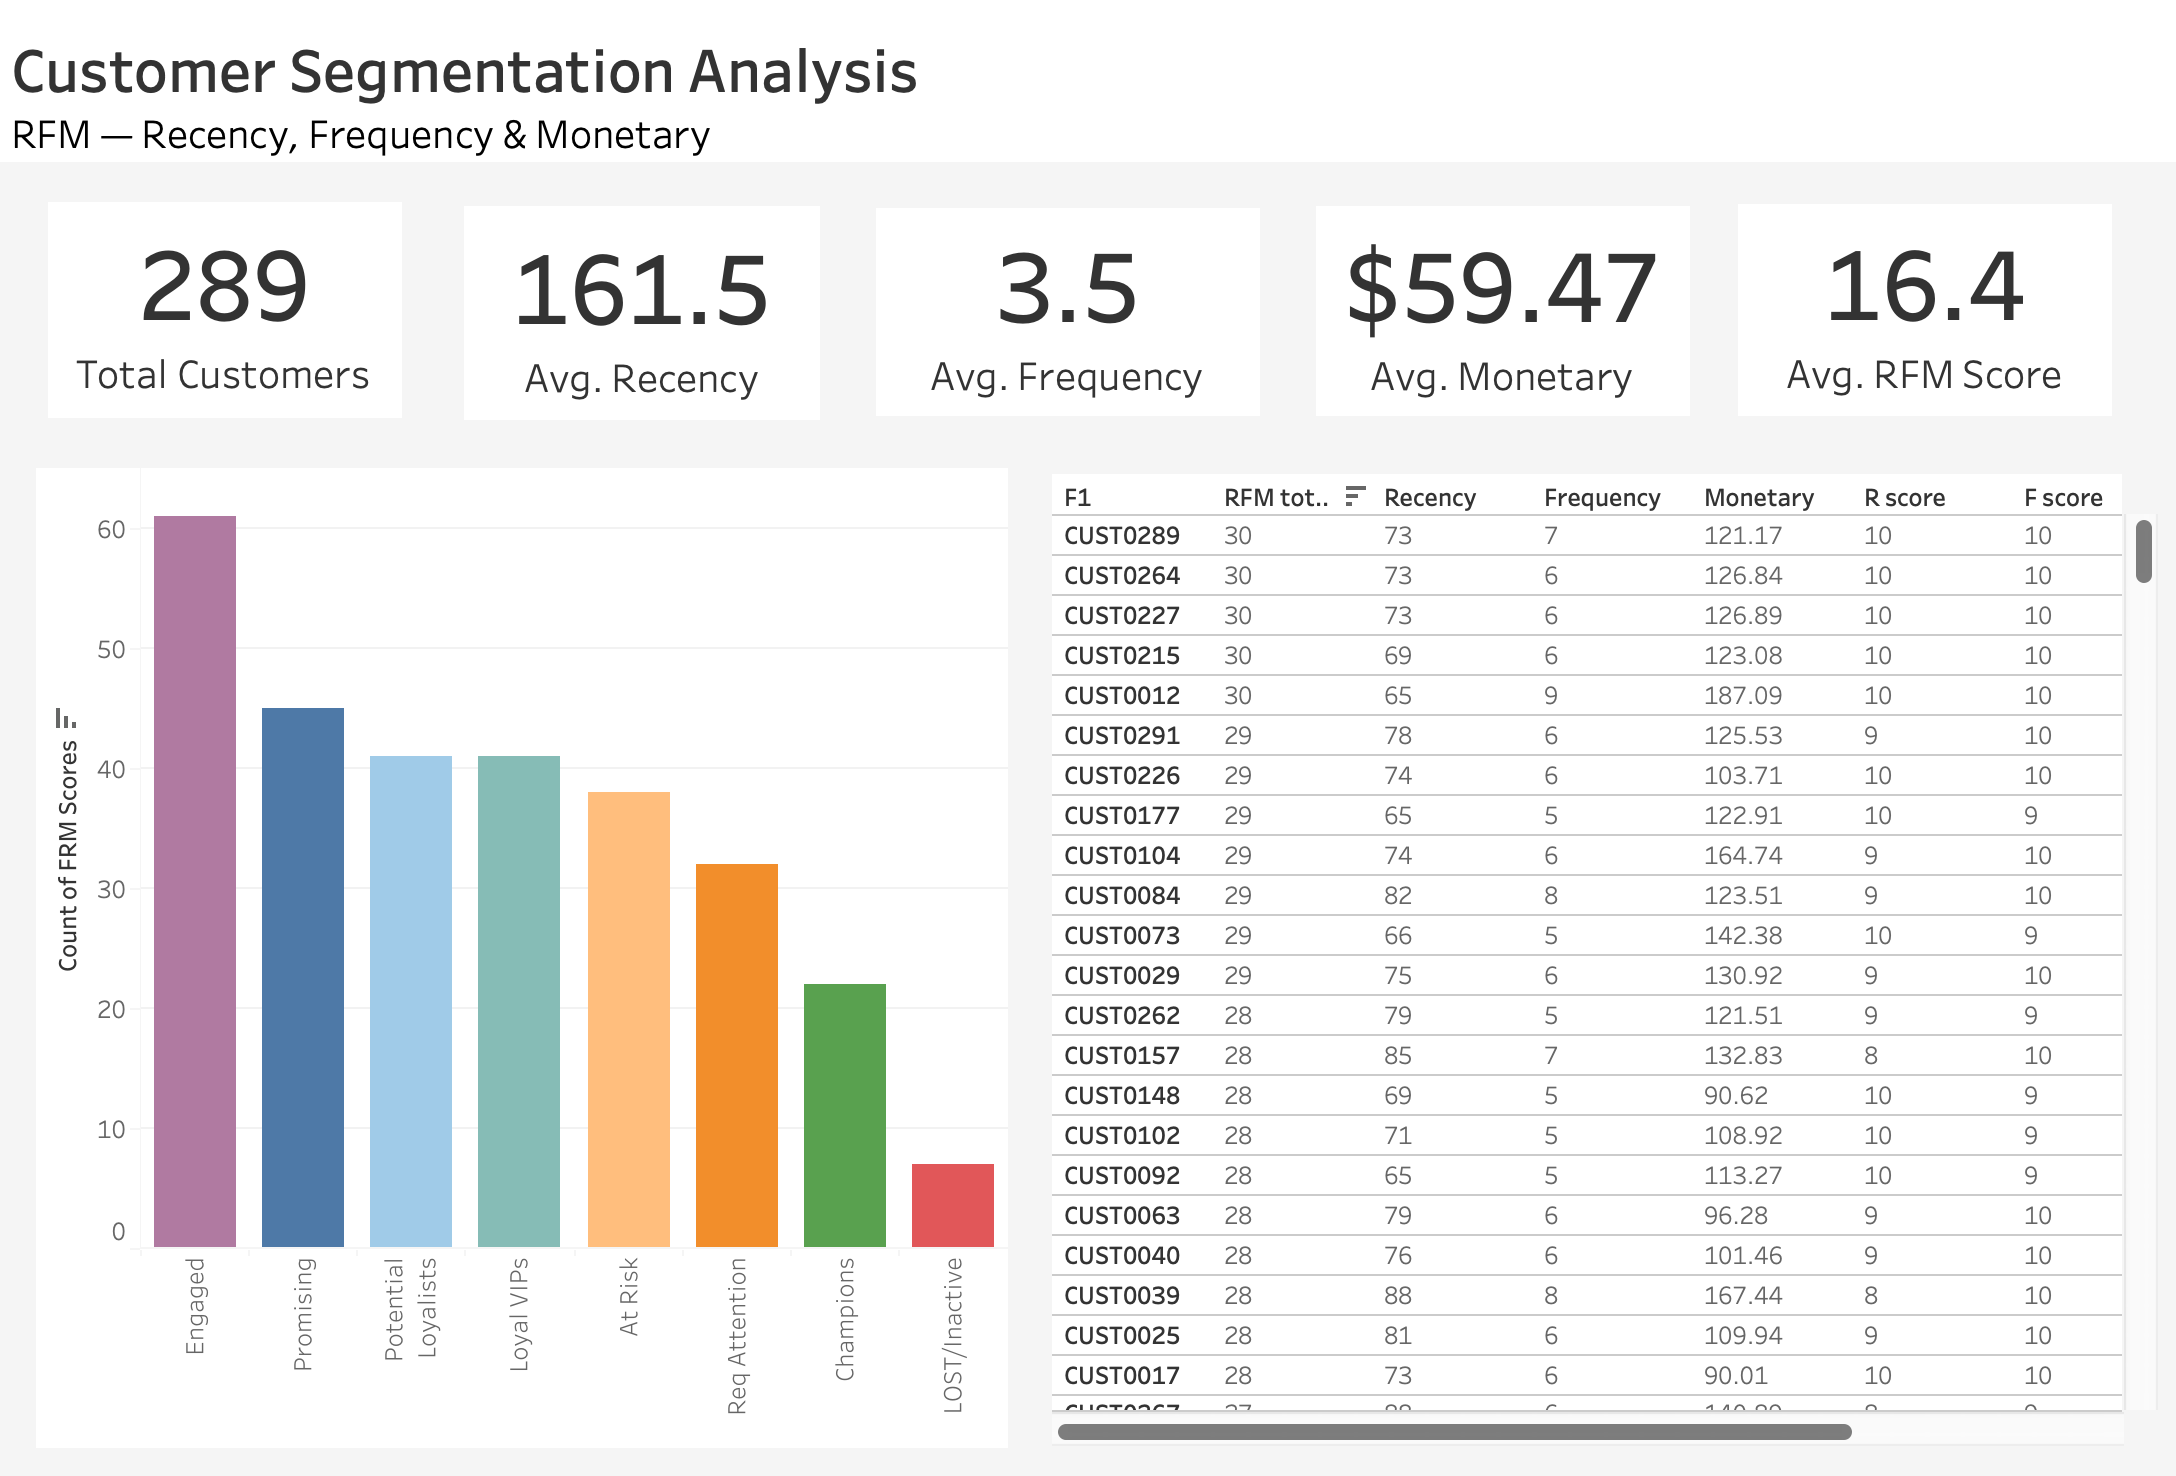

What the dashboard file says about the page in this screenshot:
{"tool":"tableau","page":{"name":"Dashboard 1","canvas":[1100,750],"ordinal":0},"visuals":[{"type":"text","box":[0,10,1101,79]},{"type":"worksheet","title":"Cust.","mark":"Automatic","box":[21,99,185,116]},{"type":"worksheet","title":"RFM.","mark":"Automatic","box":[866,100,195,114]},{"type":"worksheet","title":"Rec.","mark":"Automatic","box":[229,101,186,115]},{"type":"worksheet","title":"Mon.","mark":"Automatic","box":[655,101,195,113]},{"type":"worksheet","title":"Frq.","mark":"Automatic","box":[435,102,200,112]},{"type":"worksheet","title":"Bar","mark":"Automatic","rows":["rfm!segments!final_C97B16AF438F41B7B005544CEFC018B9"],"cols":["F9"],"box":[15,232,494,498]},{"type":"worksheet","title":"Customer Data","mark":"Automatic","rows":["F1","F8","F2","F3","F4","F5","F6","F7"],"box":[523,235,561,494]}]}

Visuals, with their boxes in screenshot pixels (x1, y1, x2, y2), scaled from the page's 1100x750 canvas onto the 2176x1476 screenshot:
text: [0, 20, 2175, 175]
"Cust." worksheet: [42, 195, 408, 423]
"RFM." worksheet: [1713, 197, 2099, 421]
"Rec." worksheet: [453, 199, 821, 425]
"Mon." worksheet: [1296, 199, 1681, 421]
"Frq." worksheet: [861, 201, 1256, 421]
"Bar" worksheet: [30, 457, 1007, 1437]
"Customer Data" worksheet: [1035, 462, 2144, 1435]
